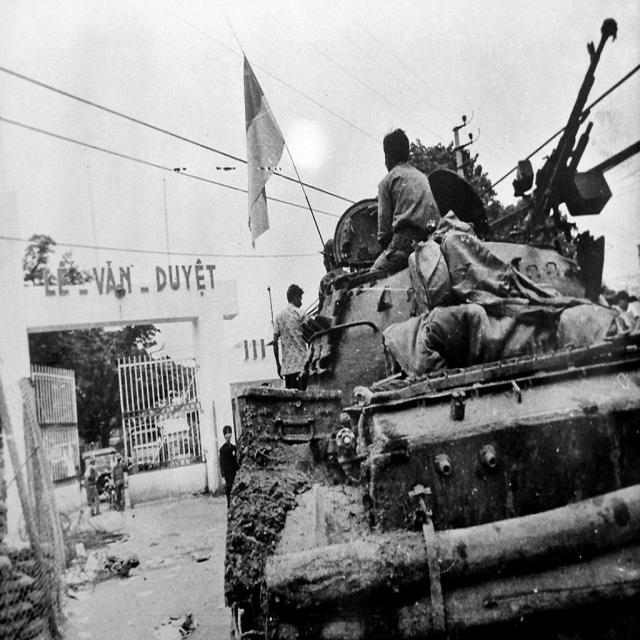tank: (224, 16, 639, 638)
